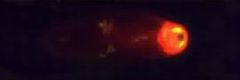keyhole: (177, 30, 185, 43)
